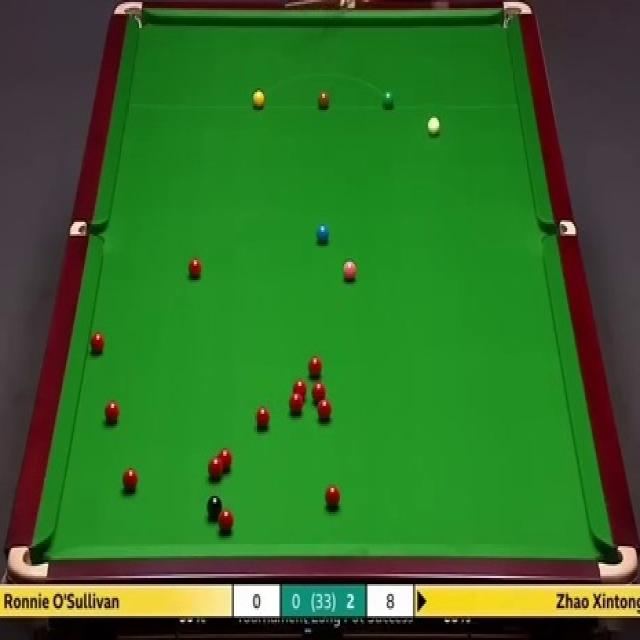black-ball: (207, 494, 224, 518)
blue-ball: (316, 222, 330, 247)
brown-ball: (317, 90, 330, 109)
green-ball: (381, 90, 394, 109)
pink-ball: (342, 262, 358, 284)
red-ball: (324, 481, 342, 512), (88, 331, 107, 358), (253, 404, 271, 432), (119, 467, 138, 492), (102, 398, 119, 423), (306, 356, 325, 378), (292, 376, 308, 402), (314, 384, 330, 408), (208, 456, 224, 480), (219, 449, 235, 471), (288, 393, 304, 415), (220, 509, 233, 535), (318, 398, 331, 419), (188, 260, 202, 278)
white-ball: (427, 117, 440, 136)
yellow-ball: (252, 90, 265, 109)
